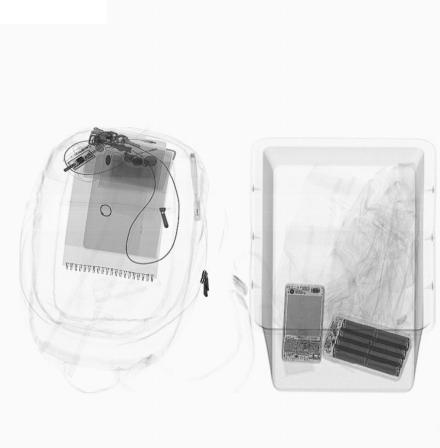Powerbank: (322, 313, 414, 382)
